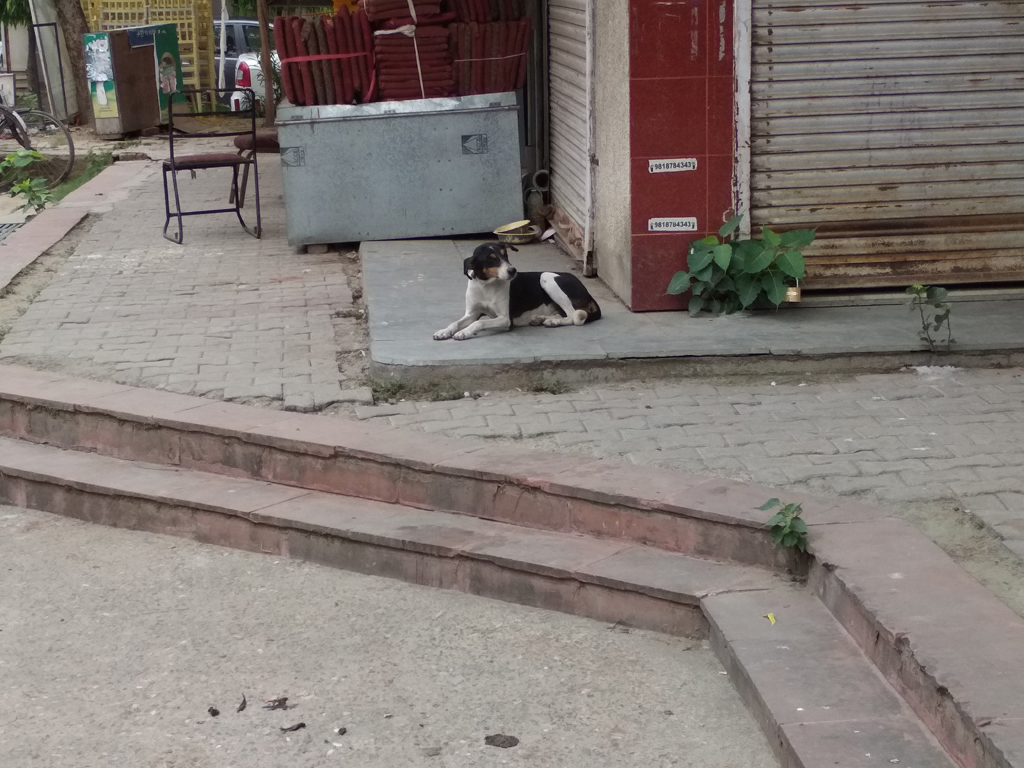dog: (433, 242, 602, 340)
